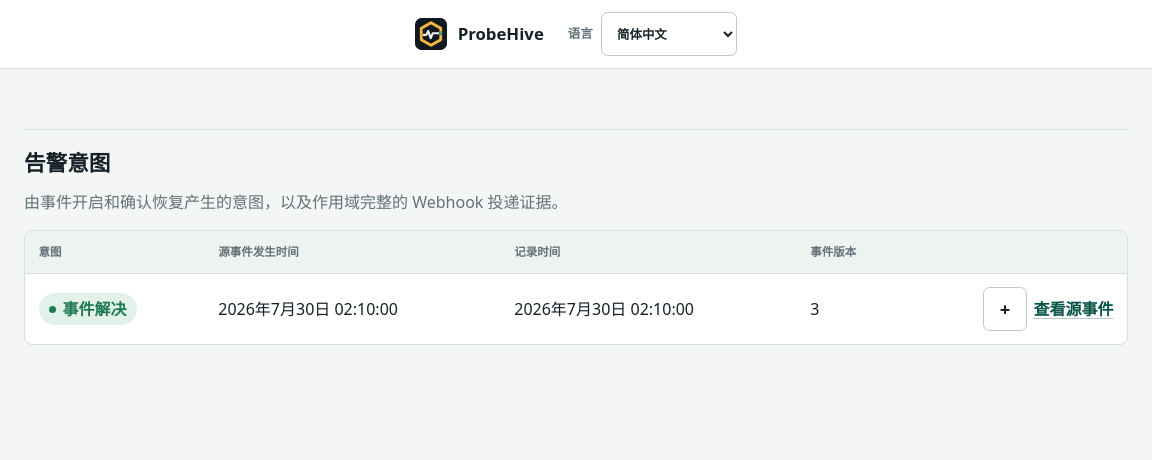
Test: localizes empty delivery evidence in Simplified Chinese
Click the button named "显示投递证据" at (1005, 309), box [983,287,1027,331]
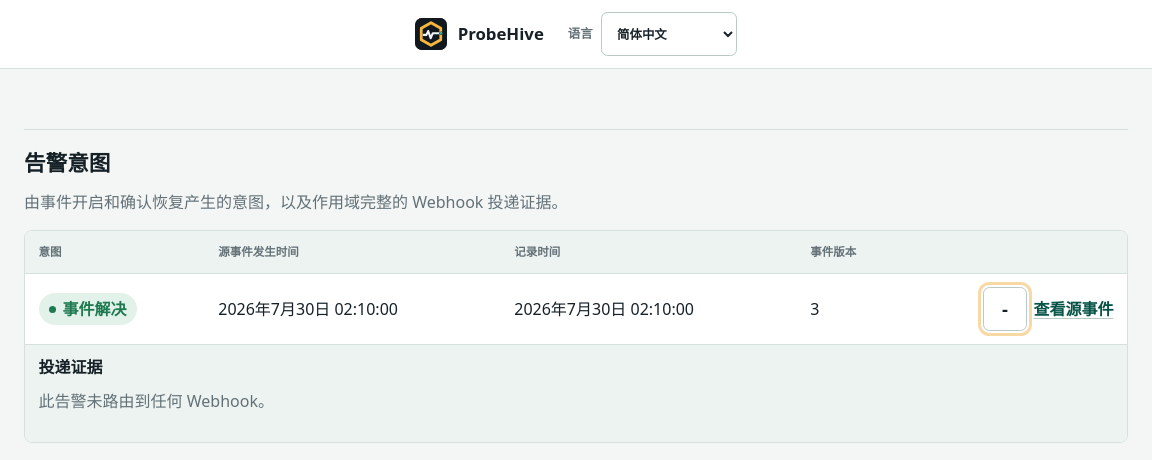
Expected: the text "此告警未路由到任何 Webhook。" is shown, [39,390,274,412]
